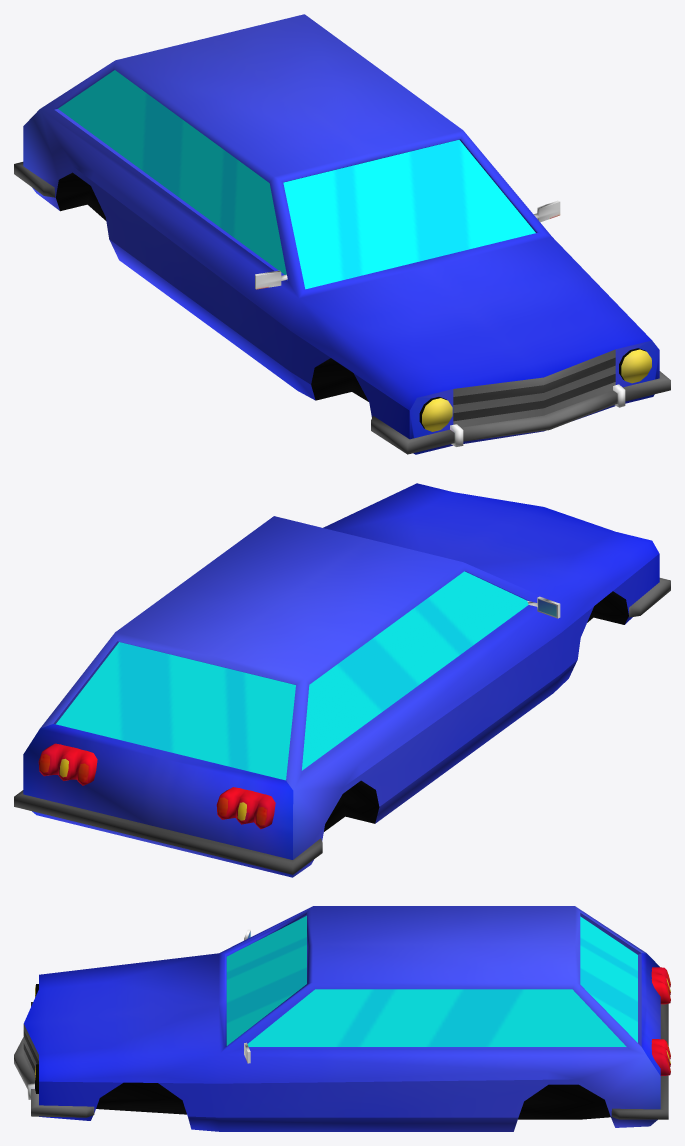
The model's file is Car_1.fbx.
3 views of the same model, one above another, from view 1: azimuth 30°, elevation 25°; view 2: azimuth 150°, elevation 25°; view 3: azimuth 270°, elevation 25° (orthographic). The views are drawn at different scales.
Visible parts, largest first — view 1: Car_1; view 2: Car_1; view 3: Car_1.
Part boxes in pixels (left/top/right/bottom): Car_1: left=14, top=14, right=670, bottom=454; Car_1: left=14, top=483, right=670, bottom=877; Car_1: left=14, top=906, right=670, bottom=1131.
Size of the model in its own units: 249 by 128 by 563.
2 materials, 2 textured.
